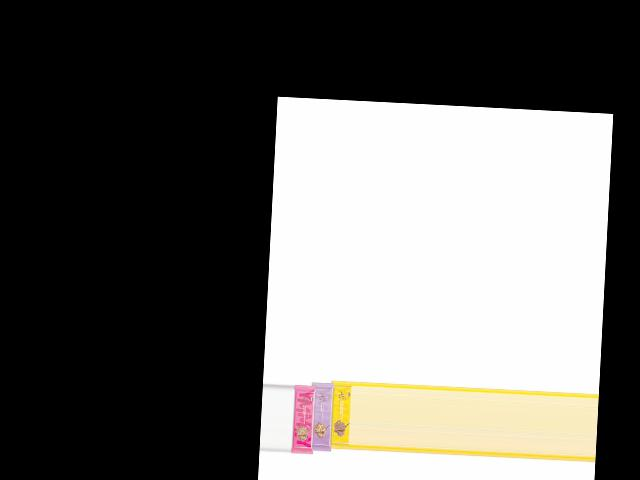chocolate: (289, 381, 316, 458)
